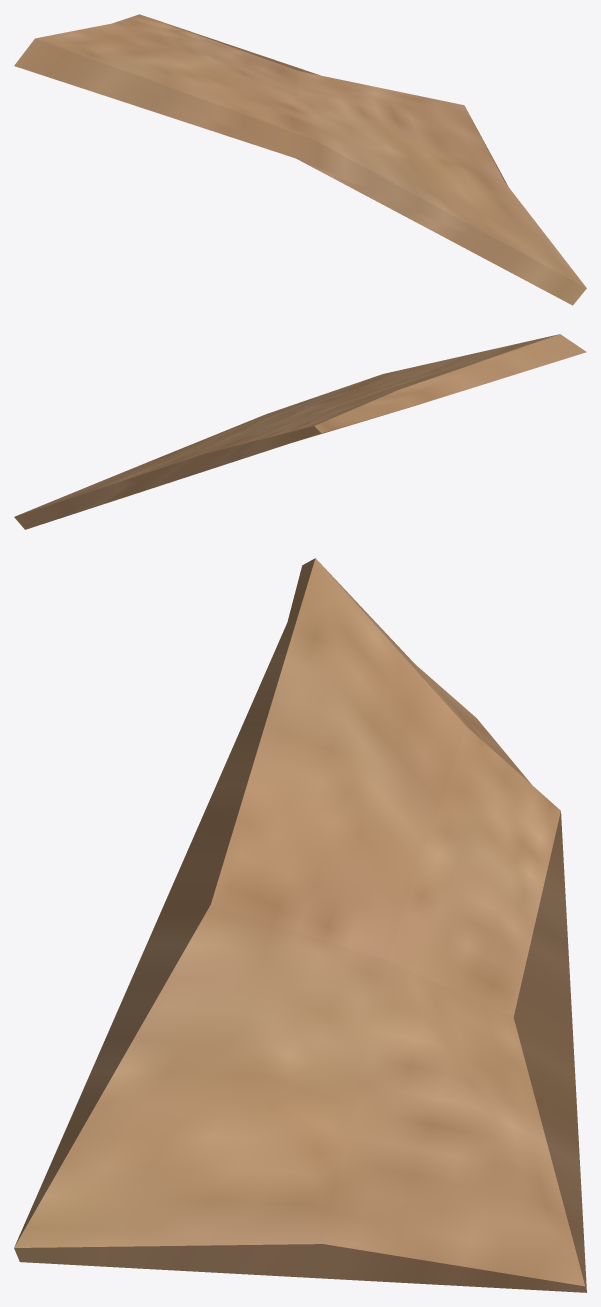
File: Shell_Part4.fbx
3 views of the same model, one above another, from view 1: azimuth 30°, elevation 25°; view 2: azimuth 150°, elevation 25°; view 3: azimuth 270°, elevation 25° (orthographic). The views are drawn at different scales.
Parts seen in each view (by area): view 1: Sphere; view 2: Sphere; view 3: Sphere.
Boxes of the visible parts, x1=… form: Sphere: x1=14, y1=14, x2=586, y2=305; Sphere: x1=14, y1=334, x2=586, y2=529; Sphere: x1=14, y1=558, x2=586, y2=1292.
Bounding box in the file's own units: 1.95 × 0.9937 × 1.26.
